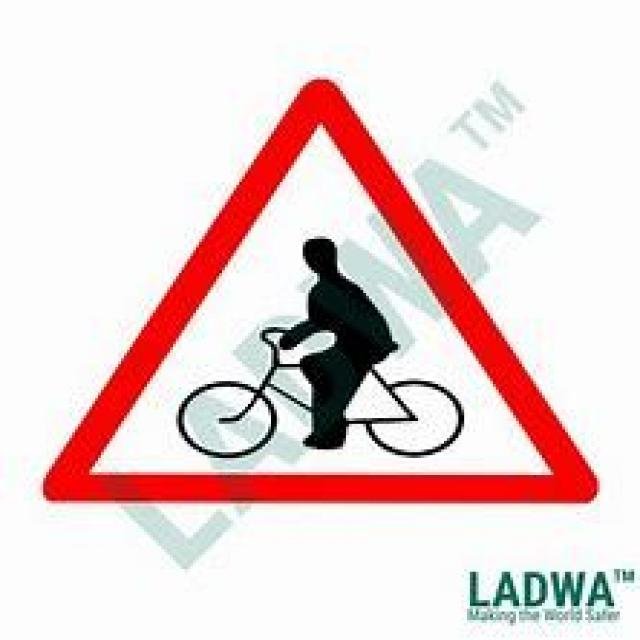CYCLE_CROSSING: (38, 74, 602, 501)
